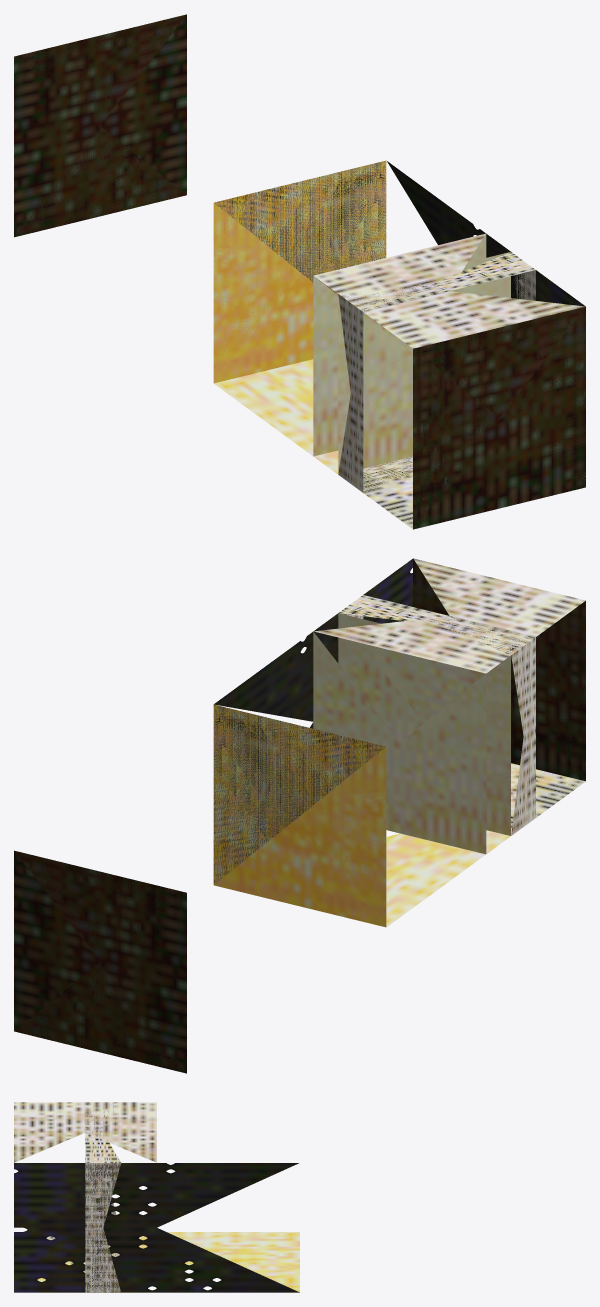
File: town_geometry_type_25.obj
The picture shows the model from 3 angles, top to bottom: view 1: azimuth 30°, elevation 25°; view 2: azimuth 150°, elevation 25°; view 3: azimuth 270°, elevation 25°; orthographic projection. The views are drawn at different scales.
Visible parts, largest first — view 1: face_list_010, face_list_034, face_list_000, face_list_042, face_list_016, face_list_006, face_list_044, face_list_012, face_list_002, face_list_046, face_list_045, face_list_017 (+2 smaller); view 2: face_list_000, face_list_010, face_list_003, face_list_042, face_list_016, face_list_006, face_list_012, face_list_002, face_list_046, face_list_034, face_list_017, face_list_044; view 3: face_list_046, face_list_012, face_list_018, face_list_016.
Part boxes in pixels (box(x1,y1,x2,y2)): face_list_010: box(14, 14, 186, 237); face_list_034: box(413, 307, 585, 529); face_list_000: box(213, 161, 386, 383); face_list_042: box(14, 14, 186, 235); face_list_016: box(338, 252, 535, 492); face_list_006: box(213, 160, 385, 381); face_list_044: box(413, 306, 585, 529); face_list_012: box(314, 233, 584, 348); face_list_002: box(215, 161, 386, 294); face_list_046: box(214, 161, 585, 526); face_list_045: box(415, 308, 585, 485); face_list_017: box(338, 252, 509, 528); face_list_000: box(213, 705, 386, 927); face_list_010: box(14, 850, 186, 1073); face_list_003: box(313, 632, 486, 854); face_list_042: box(14, 851, 185, 1072); face_list_016: box(338, 595, 535, 835); face_list_006: box(214, 704, 386, 925); face_list_012: box(314, 558, 585, 673); face_list_002: box(213, 705, 384, 883); face_list_046: box(214, 559, 584, 927); face_list_034: box(413, 559, 585, 781); face_list_017: box(339, 613, 585, 834); face_list_044: box(511, 601, 585, 778); face_list_046: box(14, 1163, 299, 1292); face_list_012: box(14, 1102, 156, 1162); face_list_018: box(85, 1163, 120, 1292); face_list_016: box(85, 1102, 120, 1256).
Bounding box in the file's own units: 64 × 64 × 256.
Materials: 31 (31 with a texture image).
